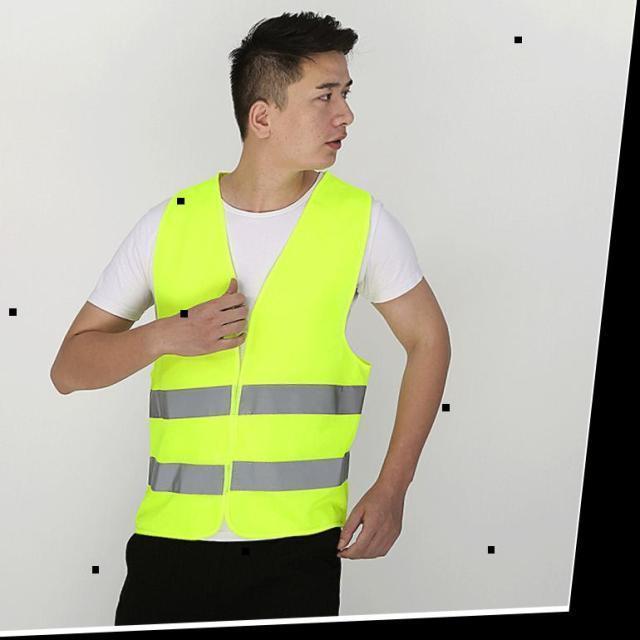safety_helmet: (140, 180, 380, 538)
